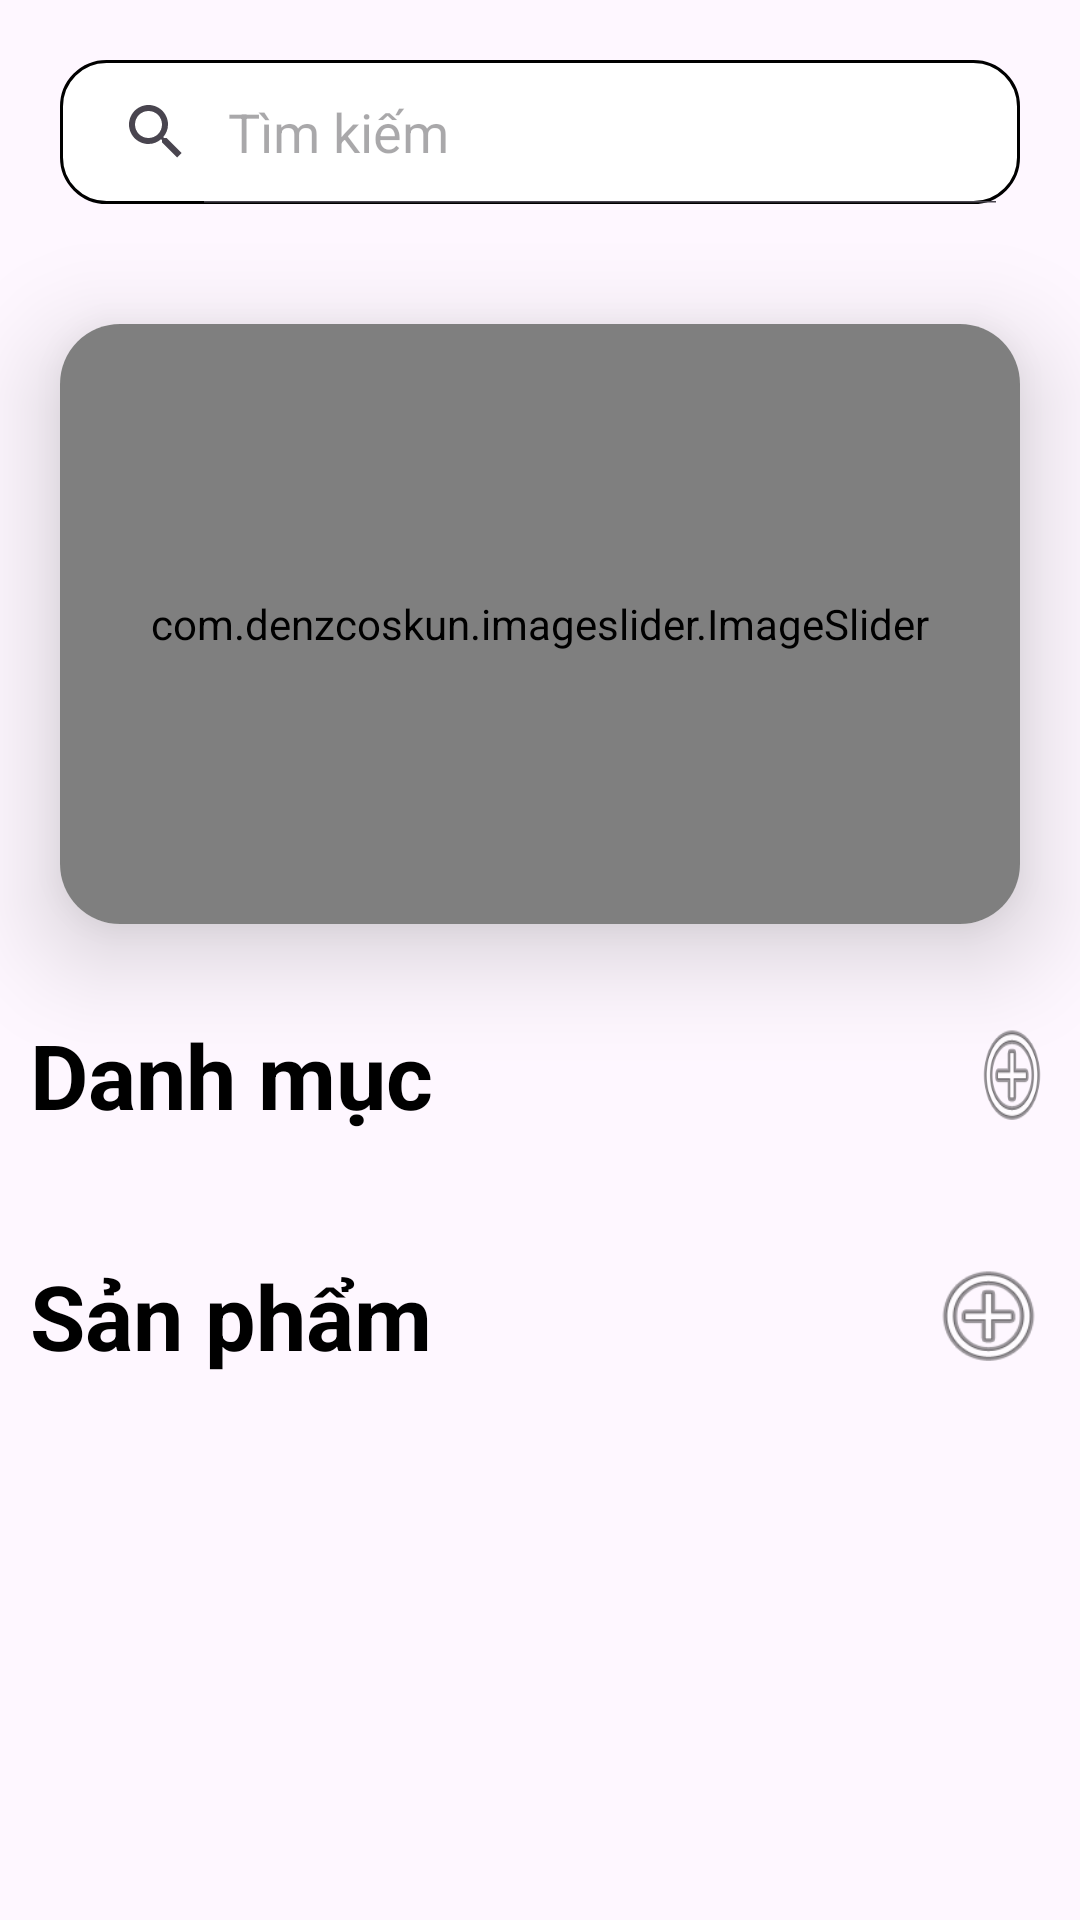

Icons on this 1080x1920 Android screen, each with the point to tap as point (x, y):
add: point (1012, 1075), point (988, 1316)
